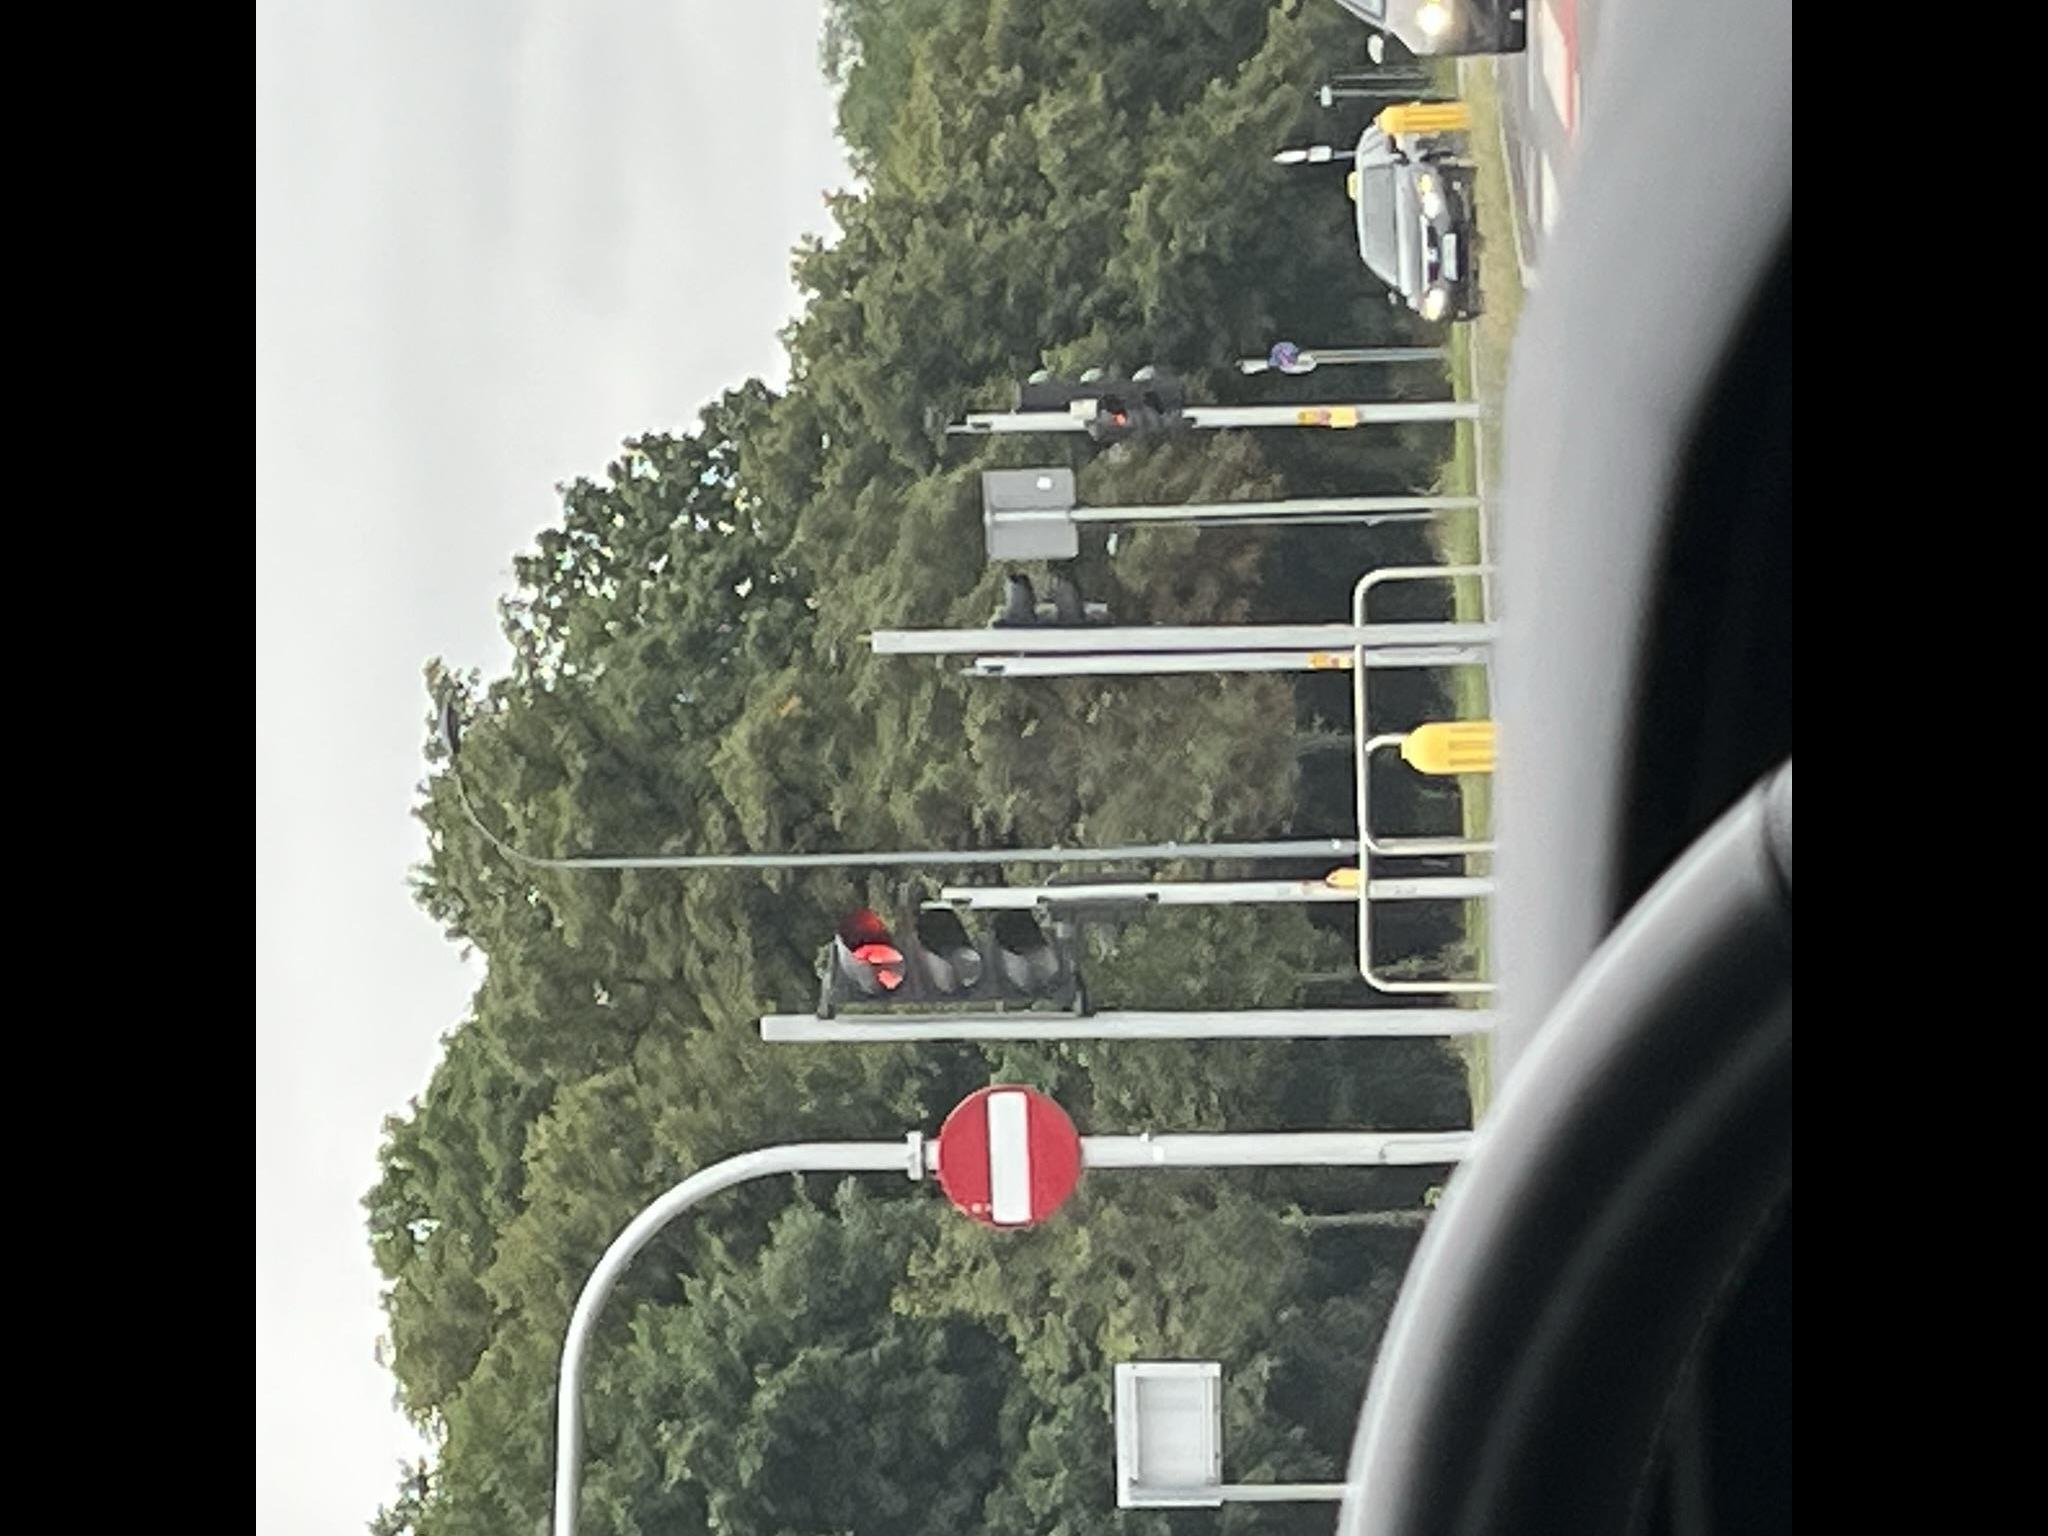prohibitory: (936, 1084, 1084, 1226)
